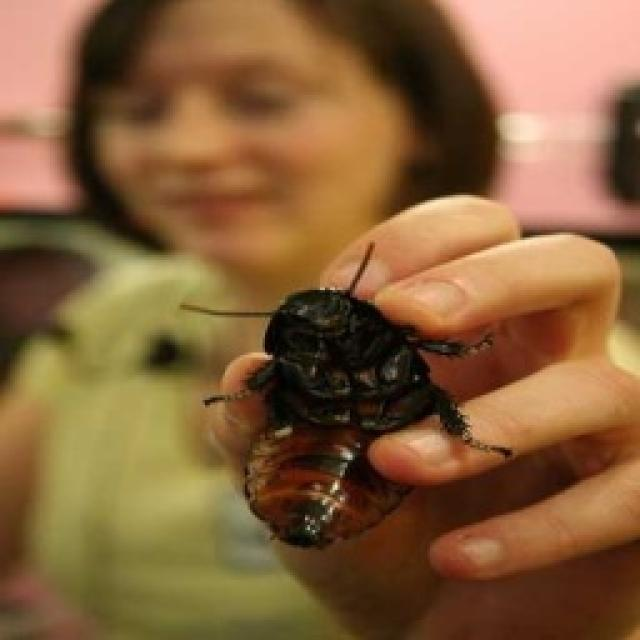cockroach: (177, 238, 517, 553)
